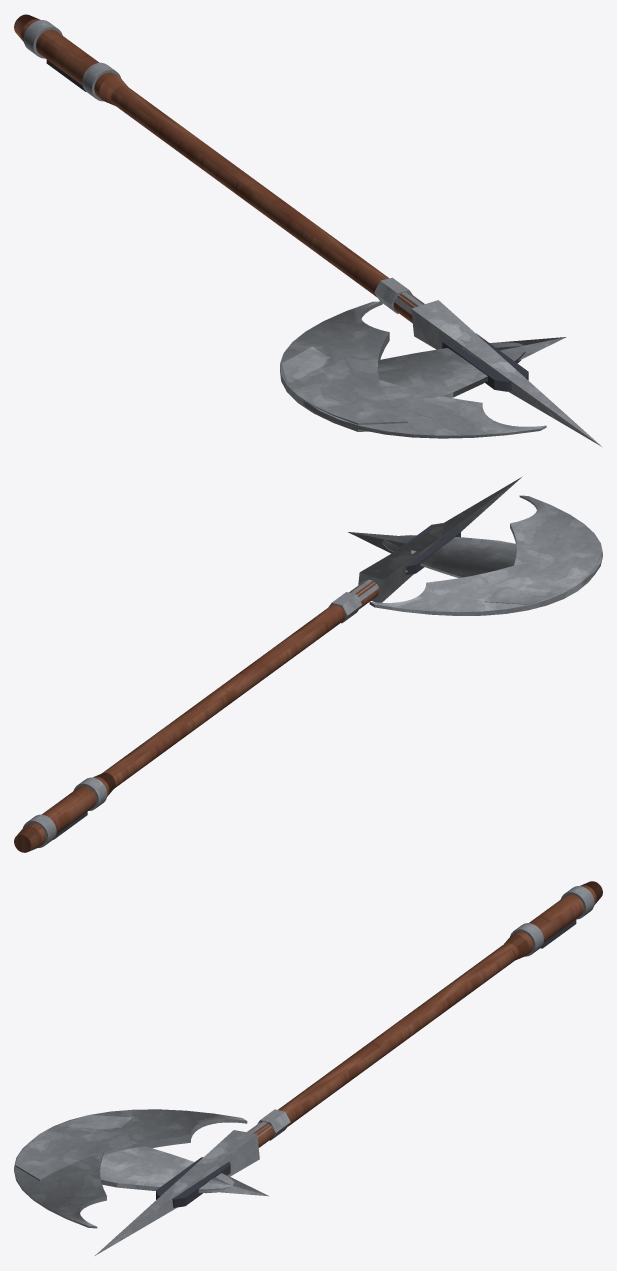
File: Halberd.obj
The picture shows the model from 3 angles, top to bottom: view 1: azimuth 30°, elevation 25°; view 2: azimuth 150°, elevation 25°; view 3: azimuth 330°, elevation 25°; orthographic projection. The views are drawn at different scales.
Parts seen in each view (by area): view 1: blade_scimitar, attachment_barrelThin, blade_top, attachment_barrel, guard, clipBarrel; view 2: blade_scimitar, attachment_barrelThin, blade_top, attachment_barrel, clipBarrel, guard; view 3: blade_scimitar, attachment_barrelThin, blade_top, attachment_barrel, guard, clipBarrel.
Part boxes in pixels (x1=…): blade_scimitar: x1=280, y1=301, x2=546, y2=438; attachment_barrelThin: x1=111, y1=86, x2=423, y2=322; blade_top: x1=411, y1=300, x2=601, y2=446; attachment_barrel: x1=14, y1=14, x2=127, y2=105; guard: x1=442, y1=333, x2=528, y2=391; clipBarrel: x1=374, y1=277, x2=470, y2=343; blade_scimitar: x1=369, y1=495, x2=602, y2=615; attachment_barrelThin: x1=102, y1=580, x2=379, y2=788; blade_top: x1=348, y1=476, x2=522, y2=602; attachment_barrel: x1=14, y1=773, x2=115, y2=852; clipBarrel: x1=329, y1=550, x2=415, y2=623; guard: x1=395, y1=523, x2=460, y2=575; blade_scimitar: x1=14, y1=1109, x2=247, y2=1228; attachment_barrelThin: x1=249, y1=943, x2=519, y2=1147; blade_top: x1=95, y1=1130, x2=268, y2=1255; attachment_barrel: x1=504, y1=881, x2=602, y2=959; guard: x1=156, y1=1157, x2=230, y2=1207; clipBarrel: x1=201, y1=1109, x2=290, y2=1164.
Size of the model in its own units: 0.7926 by 0.0886 by 2.97.
4 materials, 3 textured.
